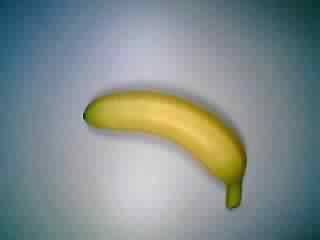banana: (79, 84, 251, 214)
